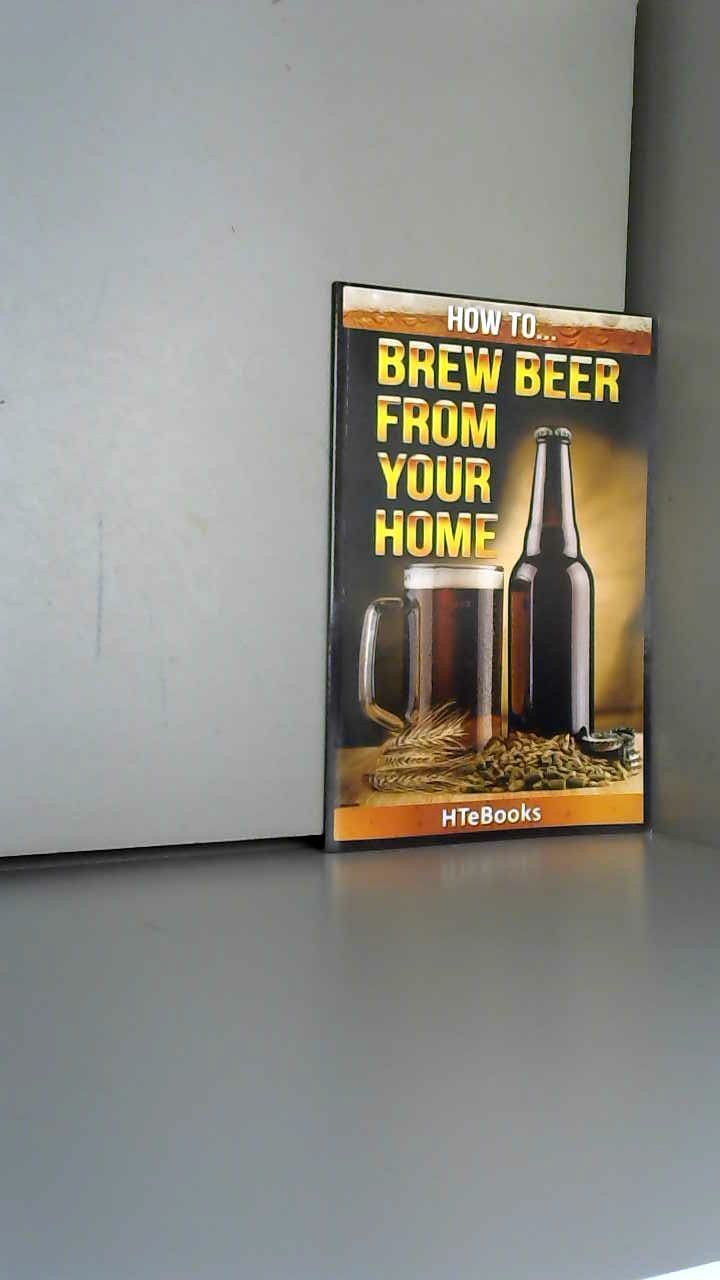book: (300, 250, 720, 874)
